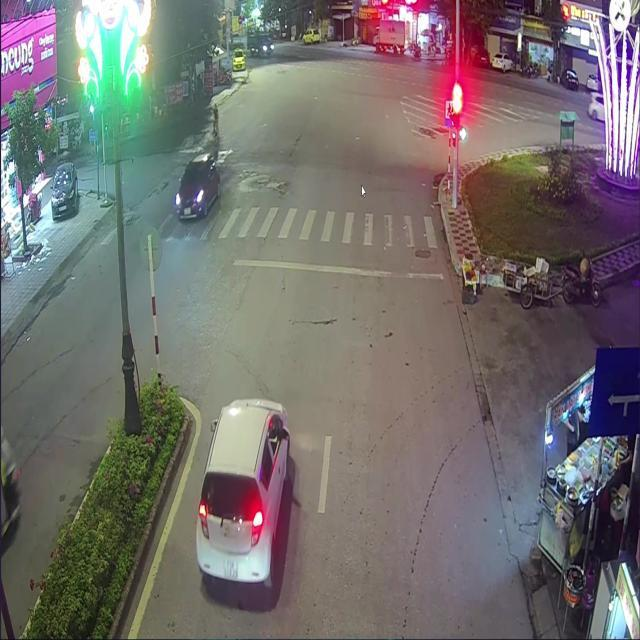car: (195, 397, 289, 592)
red_light: (452, 77, 461, 130)
stop_line: (228, 256, 440, 277)
